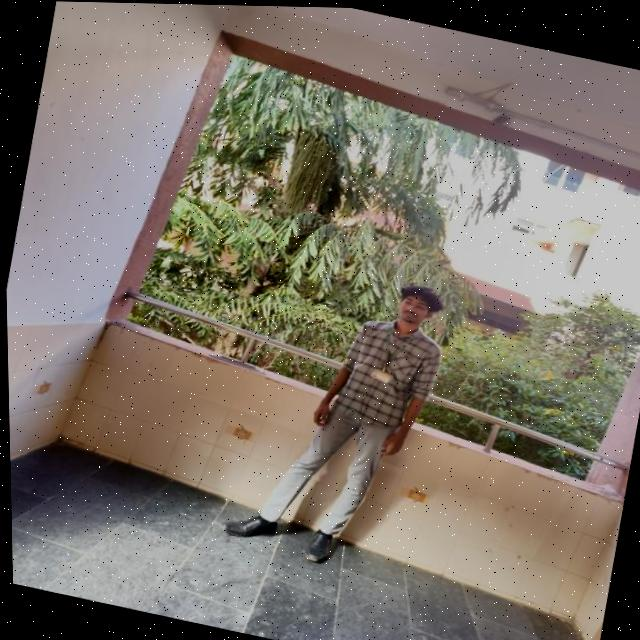id_card: (371, 324, 404, 384)
